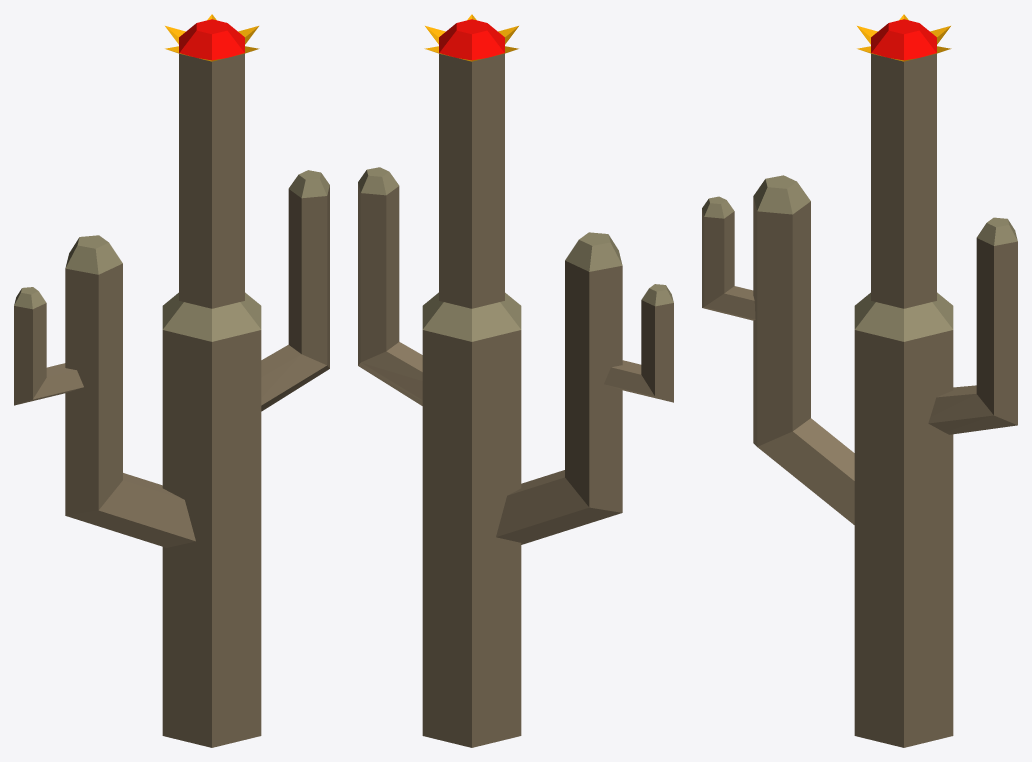
File: TB_D_Env_CactusD_B.FBX
The picture shows the model from 3 angles, left to right: view 1: azimuth 30°, elevation 25°; view 2: azimuth 150°, elevation 25°; view 3: azimuth 330°, elevation 25°; orthographic projection.
Parts seen in each view (by area): view 1: TB_D_Env_CactusD_B; view 2: TB_D_Env_CactusD_B; view 3: TB_D_Env_CactusD_B.
Boxes of the visible parts, x1,y1,x2,y2 form: TB_D_Env_CactusD_B: [14, 14, 329, 747]; TB_D_Env_CactusD_B: [358, 14, 673, 747]; TB_D_Env_CactusD_B: [702, 14, 1017, 747].
Bounding box in the file's own units: 1.7 × 3.59 × 0.4616.
